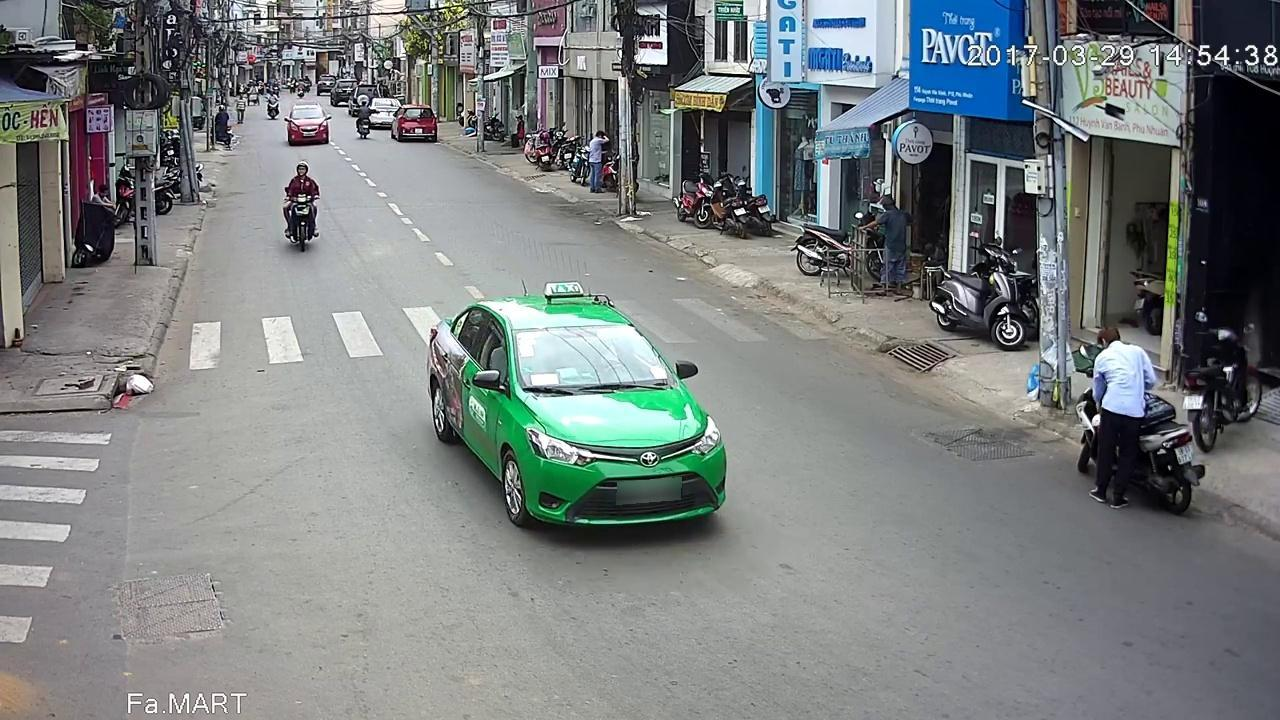xe hoi: (422, 279, 723, 546), (288, 103, 333, 143), (390, 100, 435, 139), (370, 94, 401, 126)
xe may: (280, 158, 325, 251), (359, 98, 378, 140)
